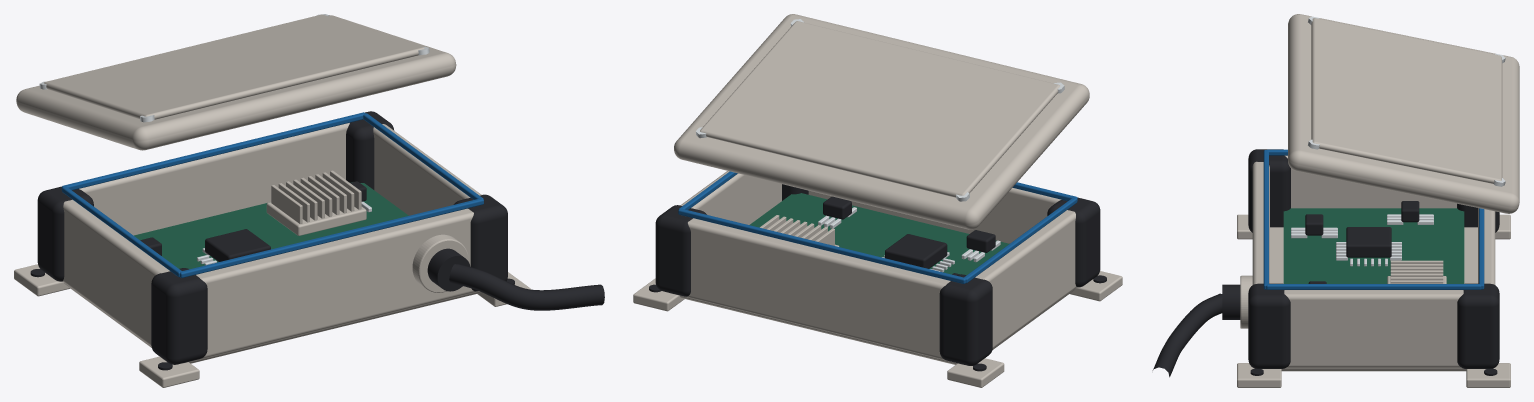
Rendered from anatomy-50.glb.
The picture shows the model from 3 angles, left to right: view 1: azimuth 30°, elevation 25°; view 2: azimuth 150°, elevation 25°; view 3: azimuth 270°, elevation 25°; orthographic projection. The views are drawn at different scales.
Visible parts, largest first — view 1: tub, lid, corners, board, seal, heat, lead, mounts, gland; view 2: lid, tub, corners, board, seal, mounts, heat; view 3: lid, tub, board, corners, seal, mounts, lead, heat, gland.
Boxes of the visible parts, x1=… form: tub: x1=63, y1=123, x2=481, y2=363; lid: x1=16, y1=14, x2=456, y2=150; corners: x1=37, y1=111, x2=507, y2=364; board: x1=134, y1=181, x2=408, y2=269; seal: x1=61, y1=112, x2=483, y2=277; heat: x1=266, y1=170, x2=366, y2=235; lead: x1=449, y1=264, x2=604, y2=310; mounts: x1=14, y1=264, x2=531, y2=387; gland: x1=412, y1=234, x2=470, y2=292; lid: x1=674, y1=14, x2=1089, y2=229; tub: x1=670, y1=171, x2=1076, y2=364; corners: x1=655, y1=184, x2=1100, y2=365; board: x1=749, y1=193, x2=1009, y2=275; seal: x1=678, y1=171, x2=1077, y2=283; mounts: x1=633, y1=271, x2=1122, y2=387; heat: x1=760, y1=215, x2=839, y2=246; lid: x1=1288, y1=14, x2=1519, y2=213; tub: x1=1252, y1=155, x2=1495, y2=371; board: x1=1283, y1=201, x2=1464, y2=283; corners: x1=1248, y1=149, x2=1499, y2=368; seal: x1=1263, y1=149, x2=1484, y2=289; mounts: x1=1237, y1=214, x2=1510, y2=387; lead: x1=1152, y1=293, x2=1222, y2=377; heat: x1=1387, y1=260, x2=1446, y2=283; gland: x1=1222, y1=275, x2=1252, y2=328.
Bounding box in the file's own units: 2.56 × 1.45 × 2.23.
